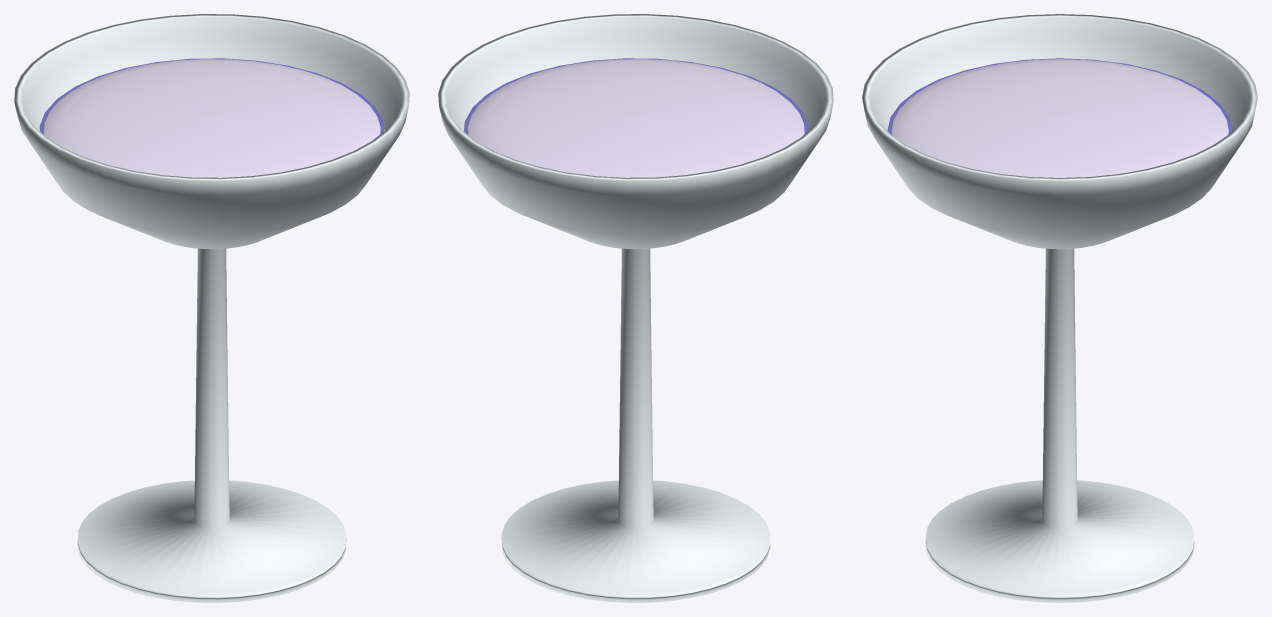
Rendered from cocktail-the-change.glb.
3 views of the same model, side by side, from view 1: azimuth 30°, elevation 25°; view 2: azimuth 150°, elevation 25°; view 3: azimuth 270°, elevation 25° (orthographic).
Size of the model in its own units: 0.112 by 0.14 by 0.112.
